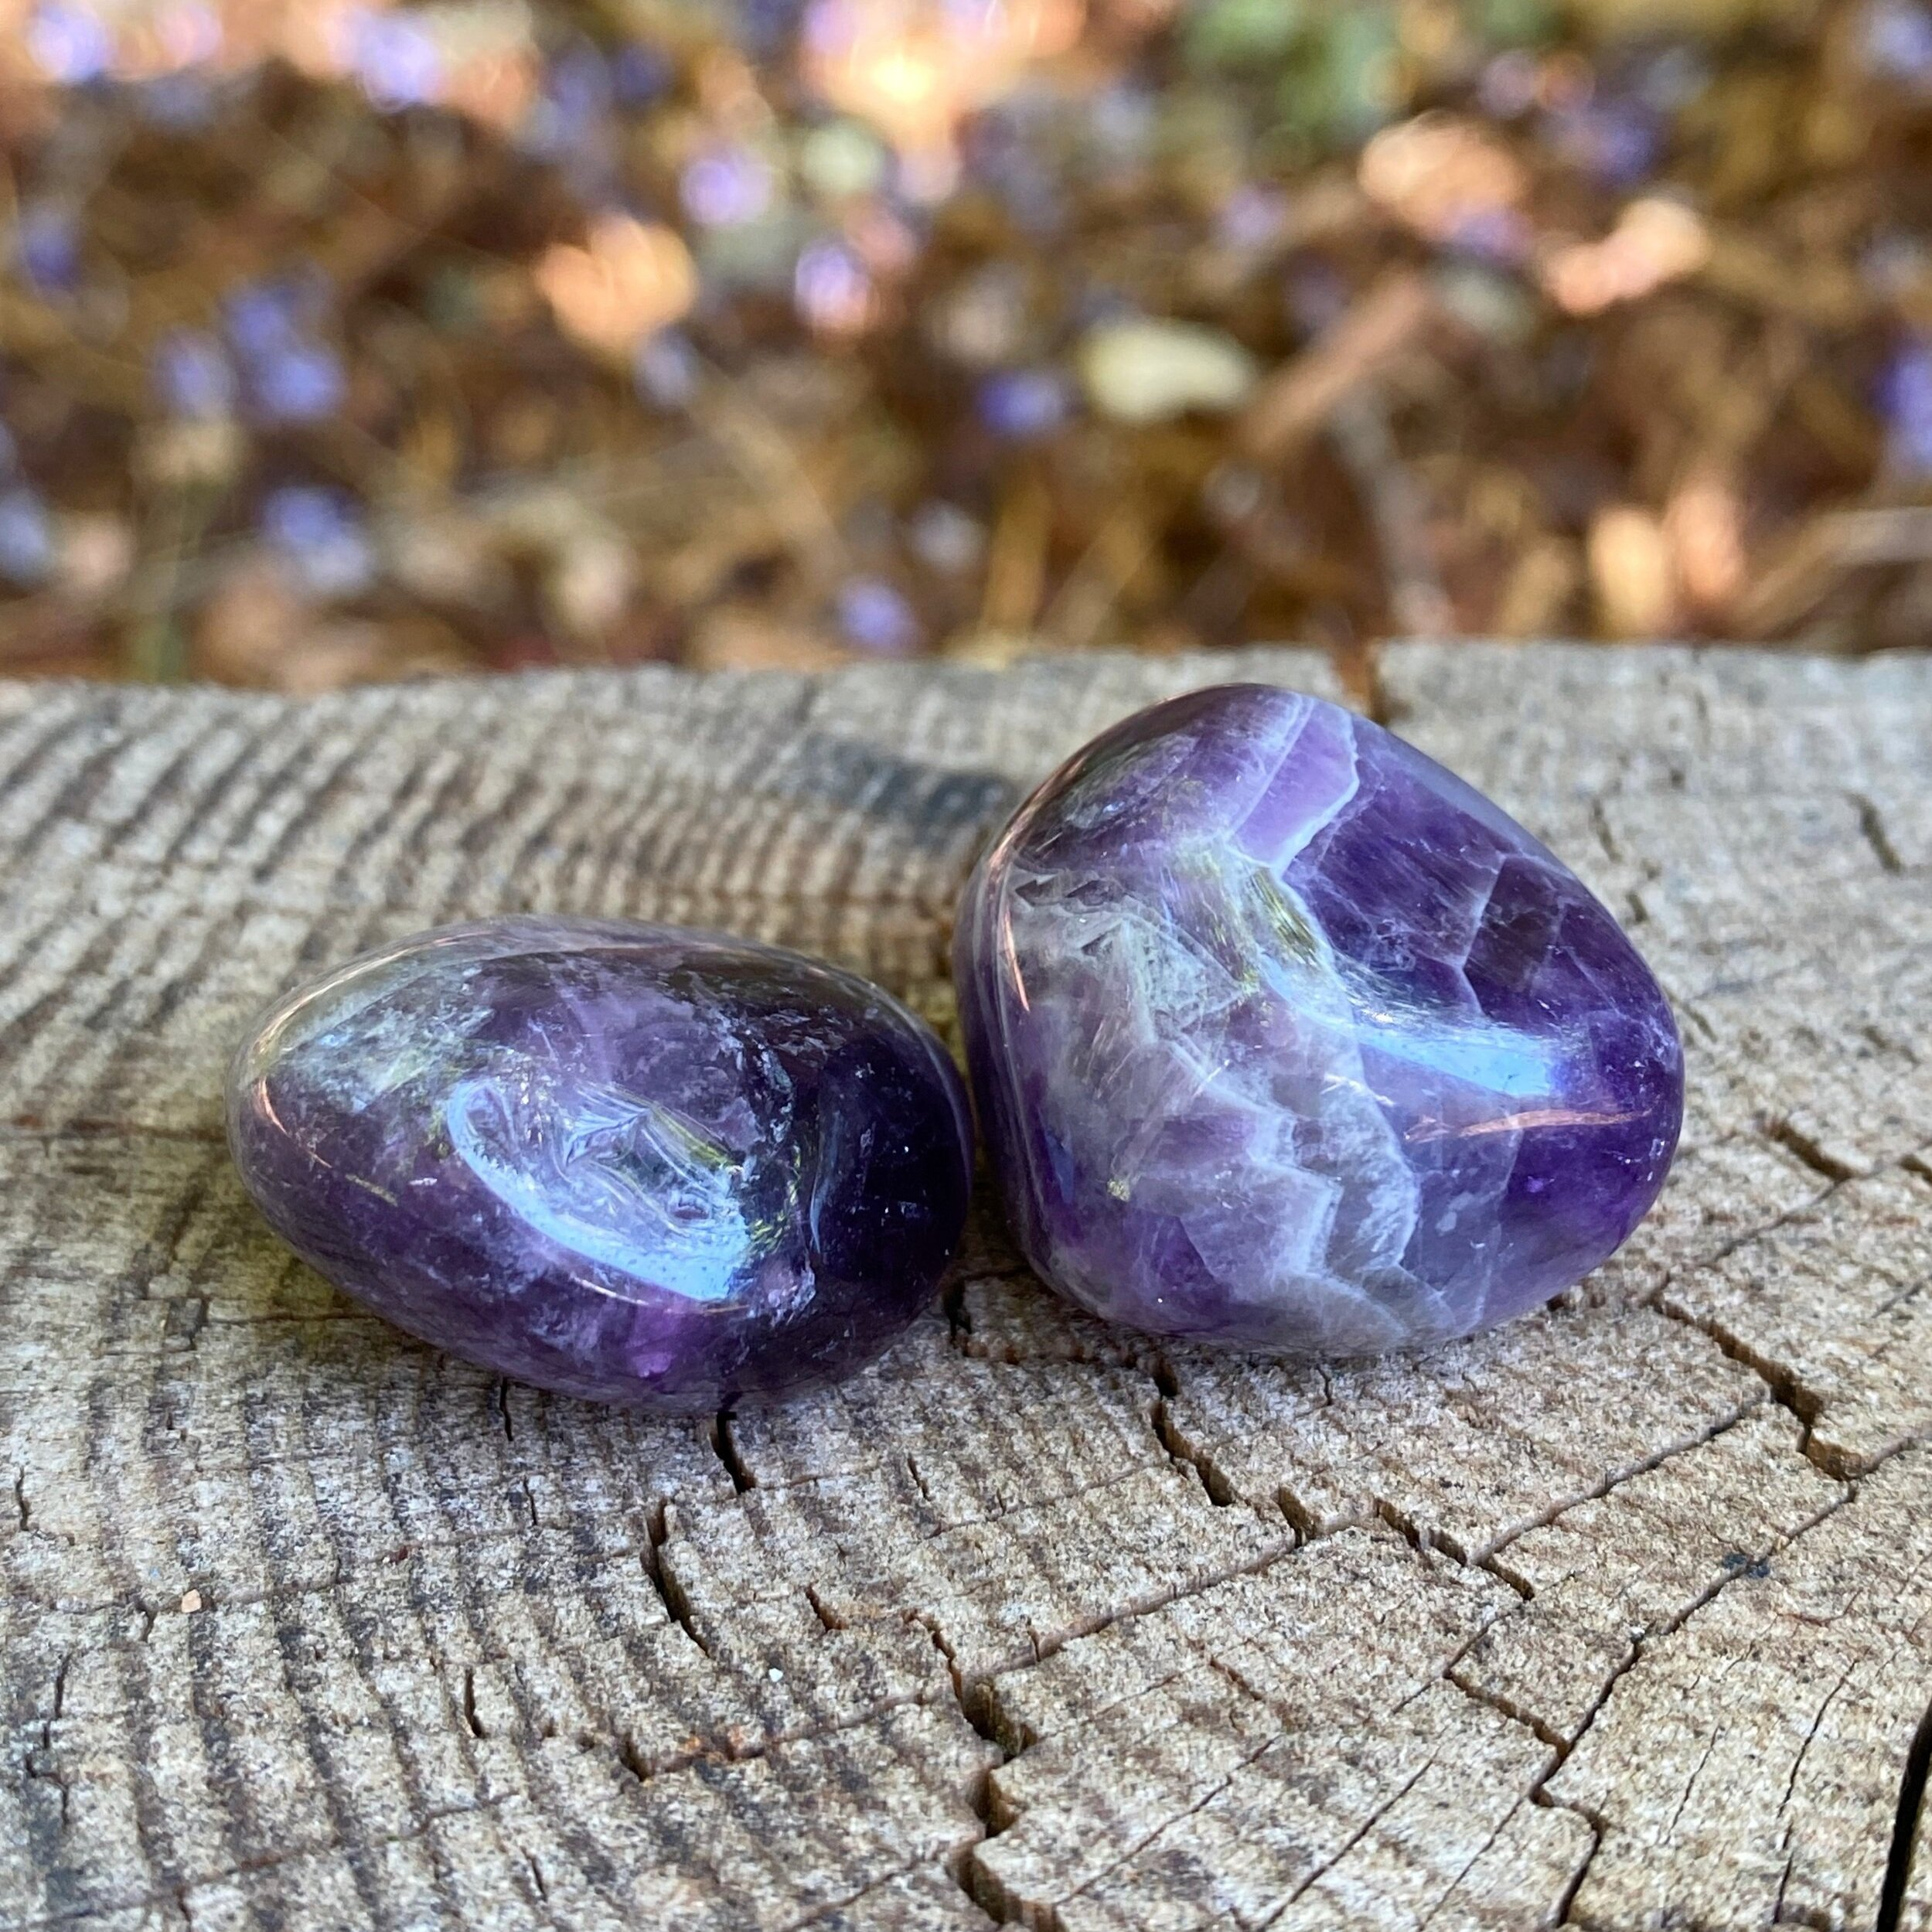Amethyst: (947, 679, 1693, 1366), (226, 901, 1016, 1426)
